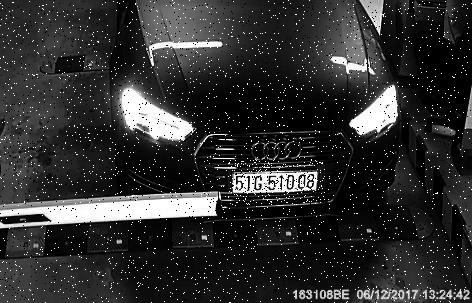License-plate: (229, 160, 326, 206)
